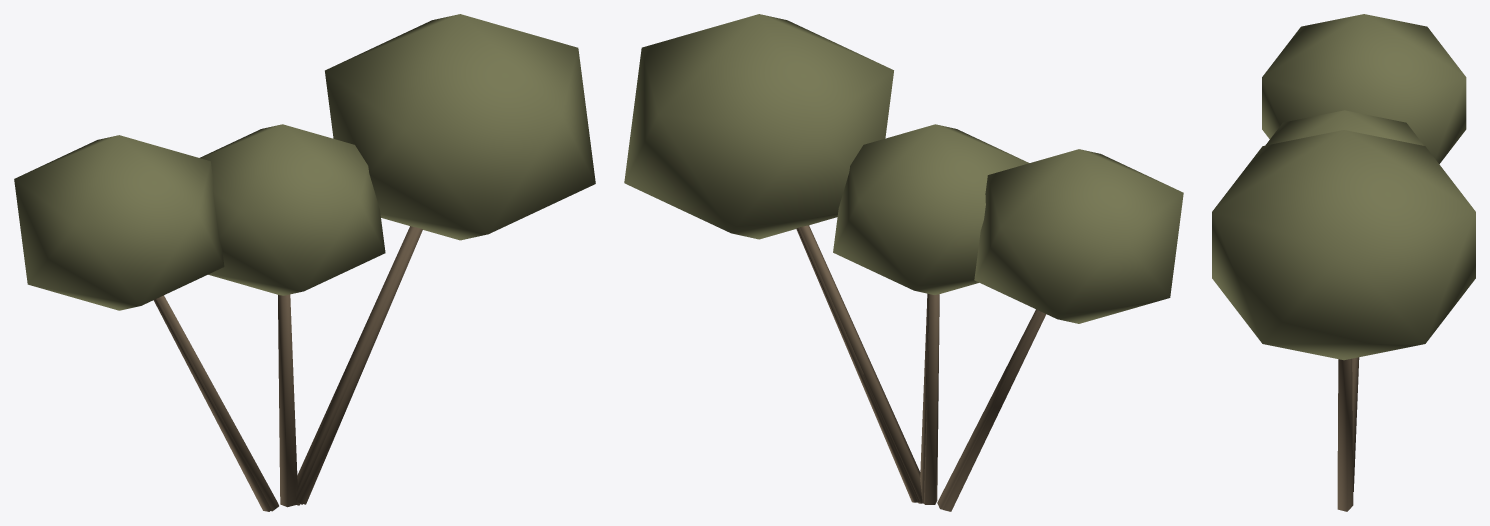
Rendered from bush_sparse.glb.
3 renders of one model, left to right at view 1: azimuth 30°, elevation 25°; view 2: azimuth 150°, elevation 25°; view 3: azimuth 270°, elevation 25°, orthographic. The views are drawn at different scales.
Visible parts, largest first — view 1: bush_sparse; view 2: bush_sparse; view 3: bush_sparse.
Boxes of the visible parts, x1,y1,x2,y2 form: bush_sparse: (14, 14, 595, 511); bush_sparse: (624, 14, 1183, 511); bush_sparse: (1212, 14, 1475, 511).
Bounding box in the file's own units: 1.4 × 1.12 × 0.583.
